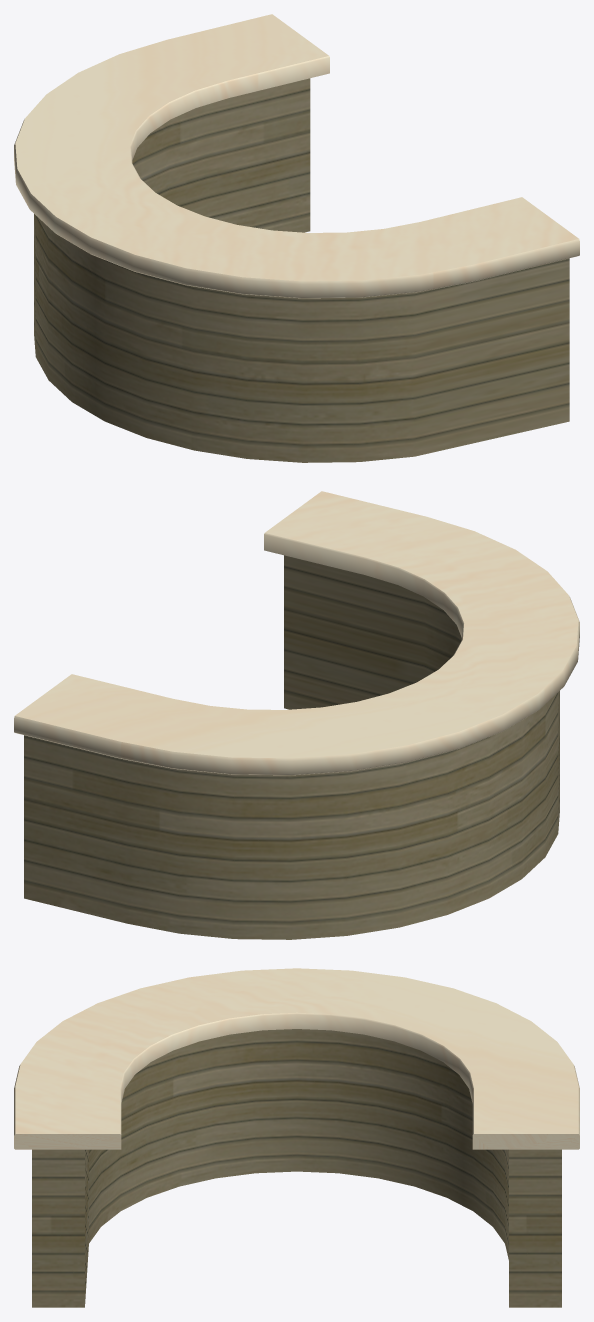
The model's file is aws_InfoDesk_01_visual.DAE.
The picture shows the model from 3 angles, top to bottom: view 1: azimuth 30°, elevation 25°; view 2: azimuth 150°, elevation 25°; view 3: azimuth 270°, elevation 25°; orthographic projection. The views are drawn at different scales.
Parts seen in each view (by area): view 1: aws_InfoDesk_01_visual; view 2: aws_InfoDesk_01_visual; view 3: aws_InfoDesk_01_visual.
Part boxes in pixels (box(x1,y1,x2,y2)): aws_InfoDesk_01_visual: box(14, 14, 579, 462); aws_InfoDesk_01_visual: box(14, 491, 579, 939); aws_InfoDesk_01_visual: box(14, 968, 579, 1307).
Bounding box in the file's own units: 219 × 316 × 107.
